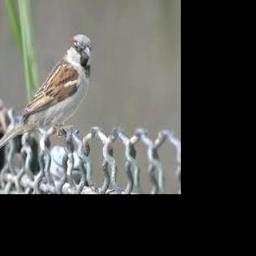Sparrow: (0, 33, 93, 156)
